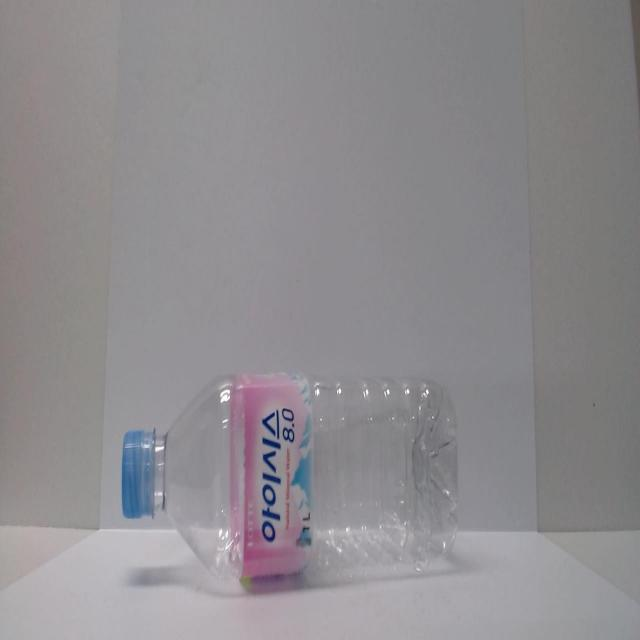bottle: (110, 350, 470, 590)
